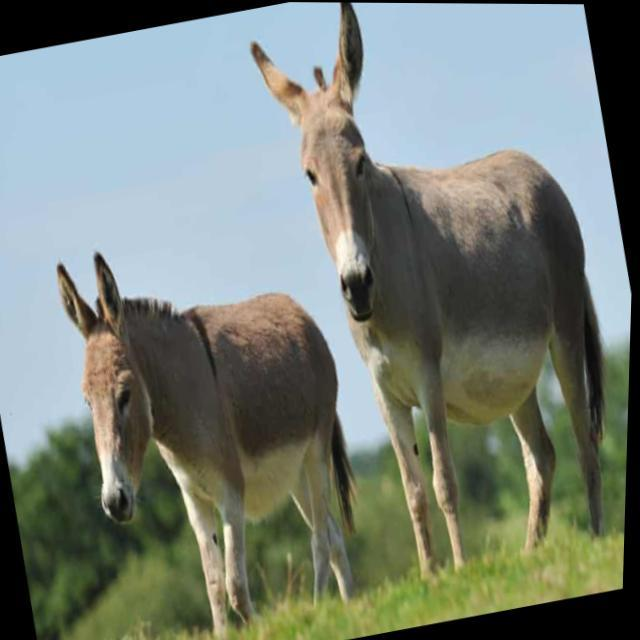Donkey: (225, 2, 640, 594), (22, 185, 378, 640), (230, 2, 434, 334), (30, 222, 208, 566)
